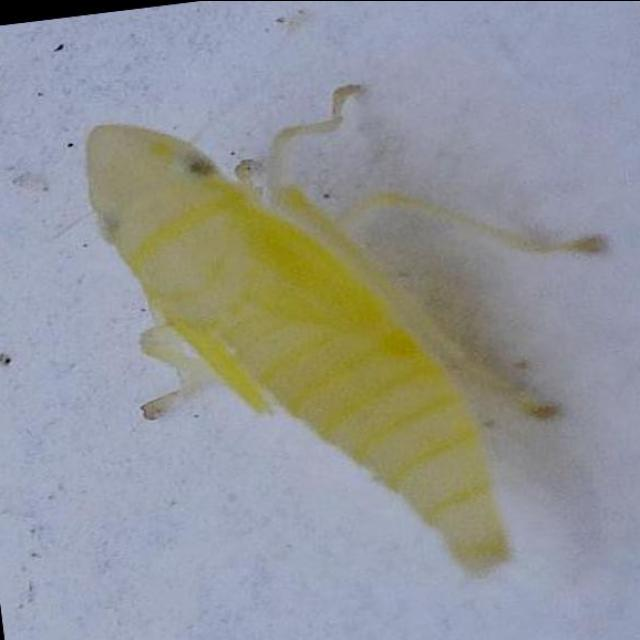green leaf hopper: (86, 85, 605, 571)
